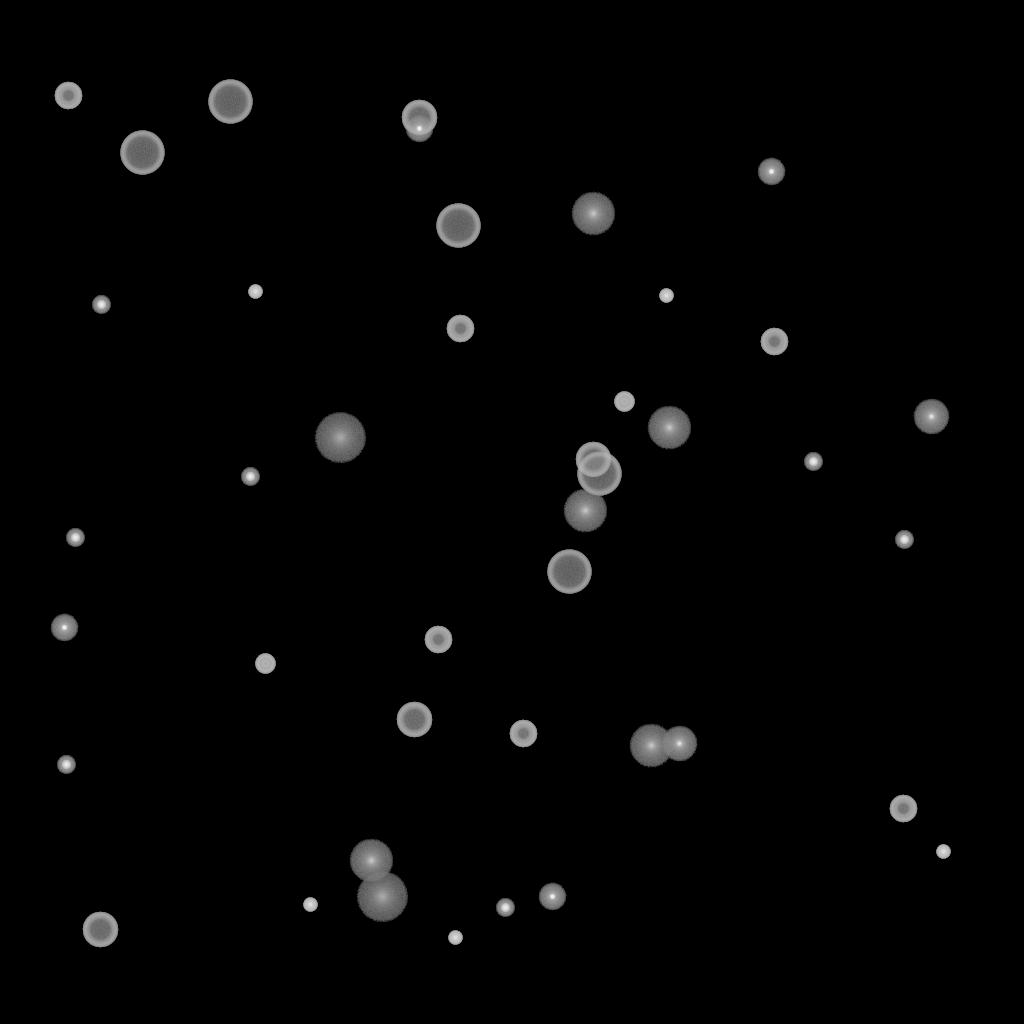depth:-10: (405, 115, 433, 143), (757, 158, 785, 186), (50, 614, 78, 642), (538, 883, 566, 911)
depth:-20: (241, 468, 259, 486), (804, 453, 822, 471), (92, 296, 110, 314), (496, 899, 514, 917), (66, 529, 84, 547), (895, 531, 913, 549), (57, 756, 75, 774)
depth:-30: (936, 845, 950, 859), (448, 931, 462, 945), (248, 285, 262, 299), (659, 289, 673, 303), (303, 898, 317, 912)
depth:-40: (614, 392, 634, 412), (255, 654, 275, 674)
depth:-50: (446, 315, 474, 343), (54, 82, 82, 110), (889, 795, 917, 823), (509, 720, 537, 748), (760, 328, 788, 356), (424, 626, 452, 654)
depth:-60: (575, 442, 611, 478), (82, 912, 118, 948), (401, 100, 437, 136), (396, 702, 432, 738)
depth:-70: (436, 204, 480, 248), (208, 80, 252, 124), (547, 550, 591, 594), (577, 452, 621, 496), (120, 131, 164, 175)
depth:0: (661, 726, 697, 762), (913, 399, 949, 435)
depth:10: (629, 724, 673, 768), (563, 489, 607, 533), (349, 839, 393, 883), (571, 192, 615, 236), (647, 406, 691, 450)
depth:20: (356, 872, 408, 922), (314, 413, 366, 463)
